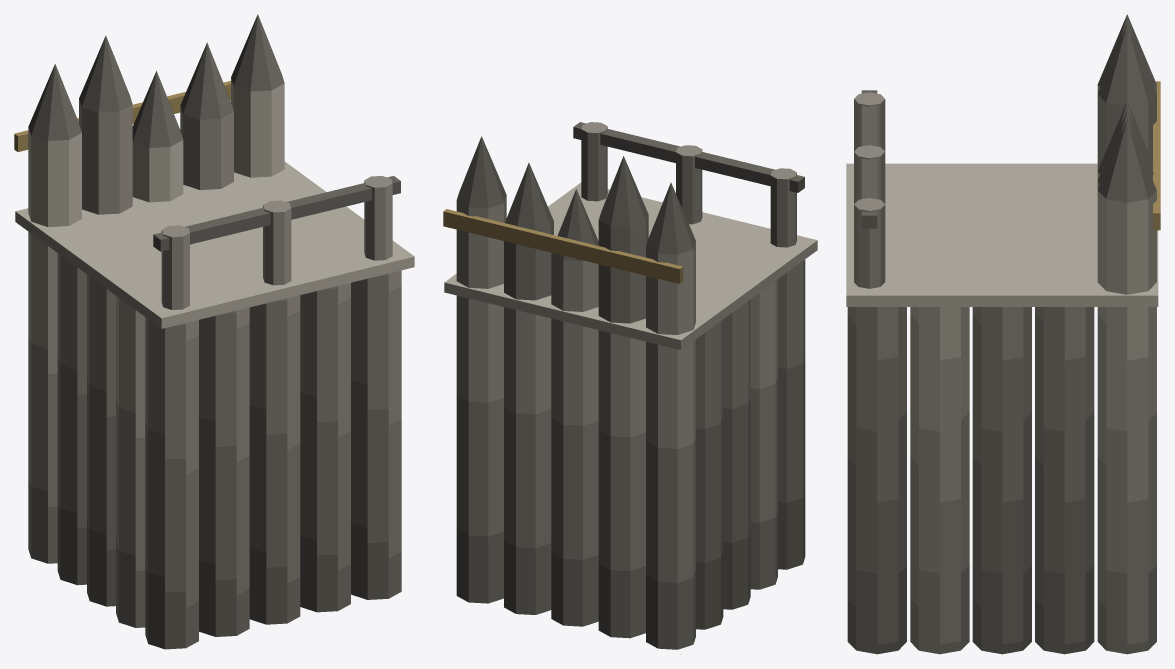
Rendered from perimeter_wall_stone_f10.glb.
The picture shows the model from 3 angles, left to right: view 1: azimuth 30°, elevation 25°; view 2: azimuth 150°, elevation 25°; view 3: azimuth 270°, elevation 25°; orthographic projection. The views are drawn at different scales.
Bounding box in the file's own units: 2 × 3.9 × 2.01.
1 material, 1 textured.
